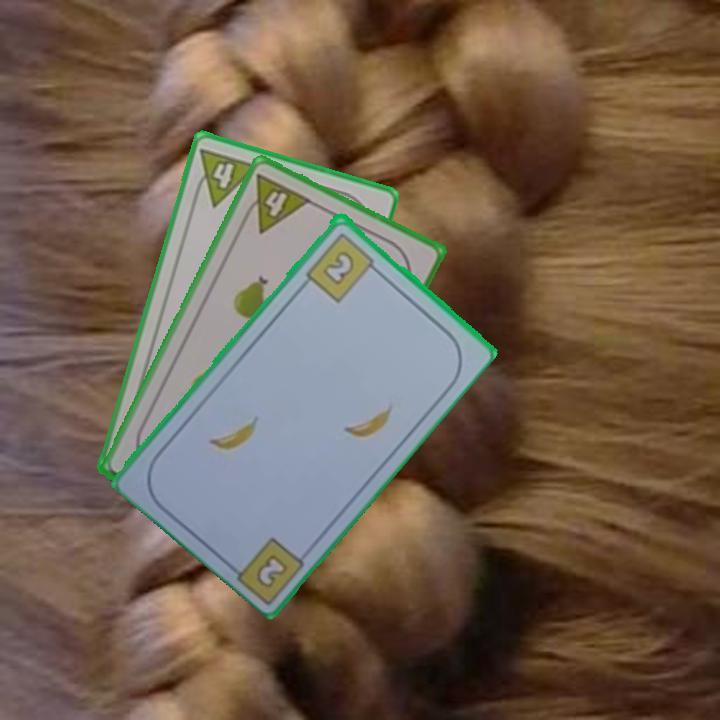2b: (302, 228, 382, 305), (255, 553, 288, 588)
4p: (237, 169, 314, 236), (188, 144, 261, 210)
